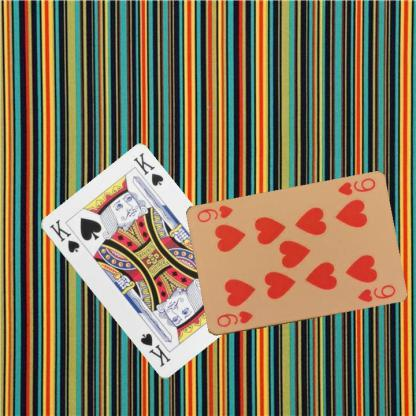9h: (334, 175, 376, 197), (214, 308, 254, 329)
Ks: (47, 216, 81, 254)
